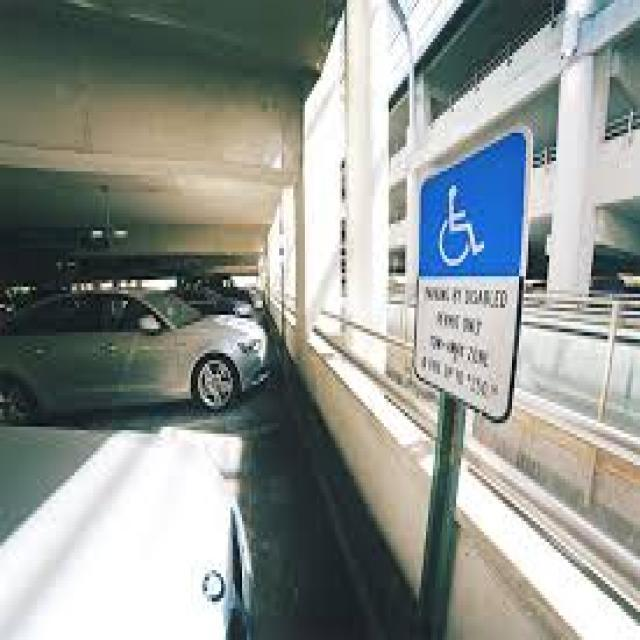symbol_of_access: (438, 183, 485, 270)
